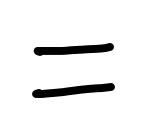eqv: (32, 44, 115, 98)
